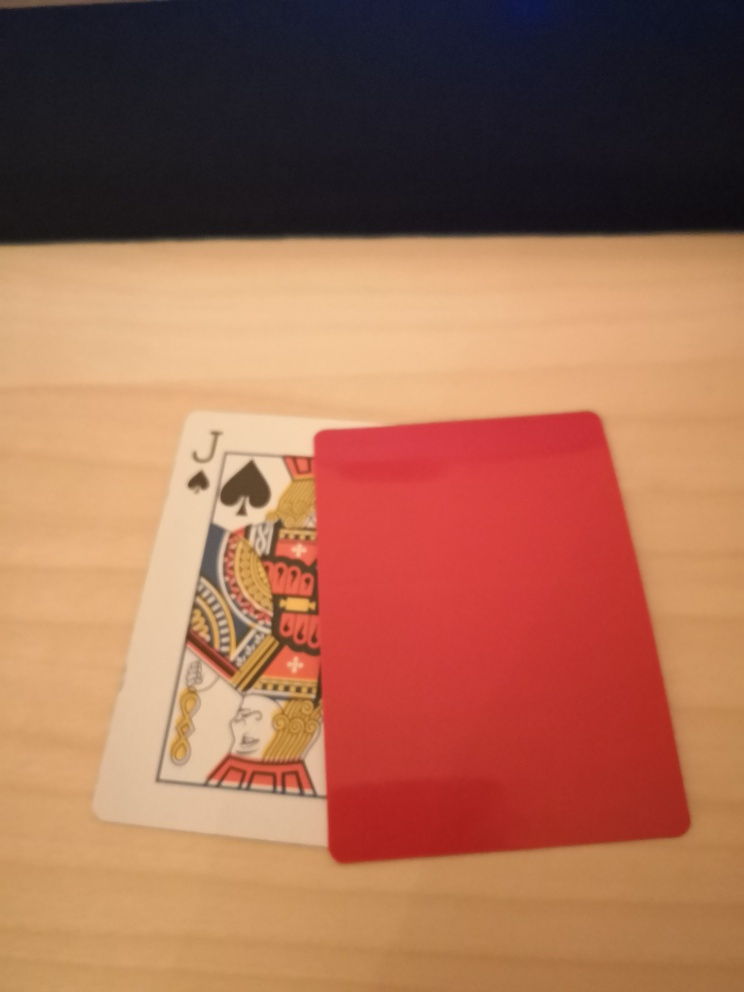jack: (93, 410, 338, 848)
